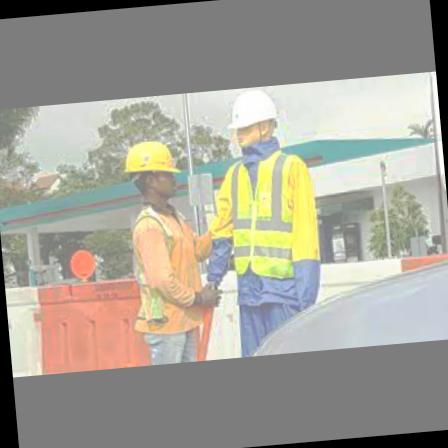Mannequin: (190, 81, 328, 357), (120, 135, 230, 364)
